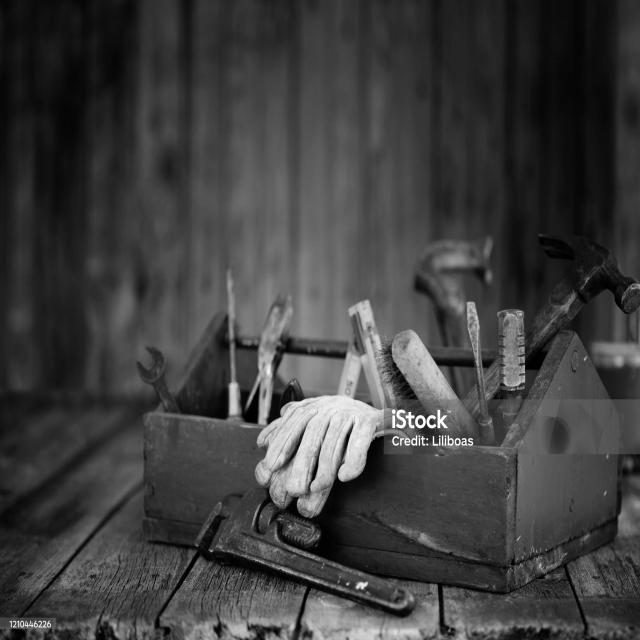golves: (242, 388, 438, 531)
hammer: (432, 224, 640, 440)
pliers: (243, 285, 297, 417)
saw: (404, 216, 507, 401)
screwdriver: (457, 292, 506, 447), (212, 255, 247, 419)
wrench: (169, 469, 427, 631), (128, 310, 191, 423)
